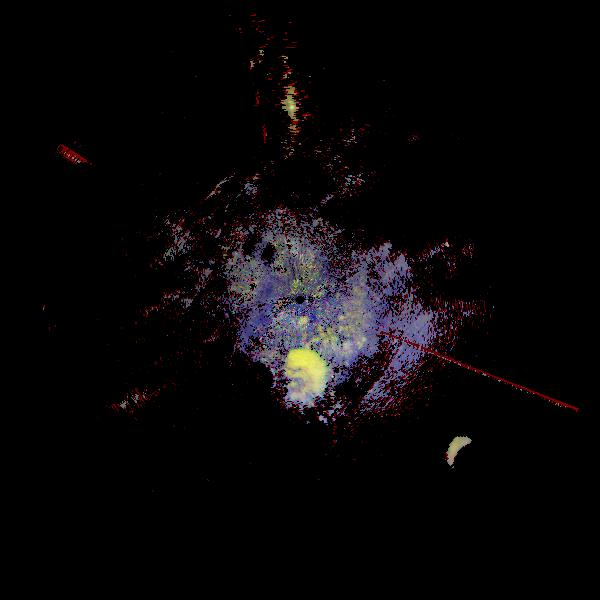roost: (258, 335, 339, 416), (439, 429, 496, 486)
